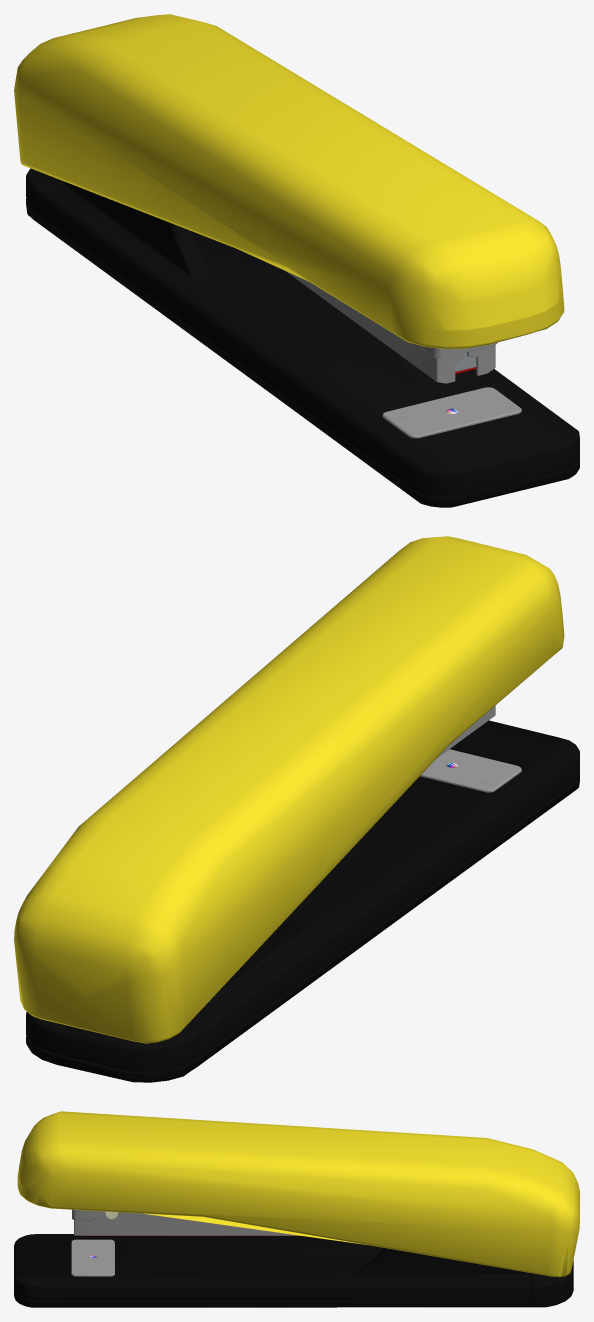
The model's file is SM_Env_Stapler.fbx.
3 views of the same model, one above another, from view 1: azimuth 30°, elevation 25°; view 2: azimuth 150°, elevation 25°; view 3: azimuth 270°, elevation 25° (orthographic). The views are drawn at different scales.
Parts seen in each view (by area): view 1: Stapler; view 2: Stapler; view 3: Stapler.
Boxes of the visible parts, <box> form: Stapler: <box>14,14,579,507</box>; Stapler: <box>14,536,579,1082</box>; Stapler: <box>14,1111,579,1307</box>.
Bounding box in the file's own units: 0.0377 × 0.0527 × 0.1734.
